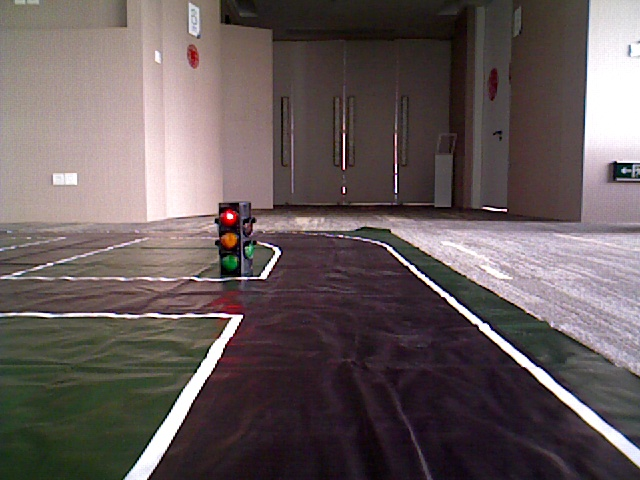red: (222, 202, 239, 271)
